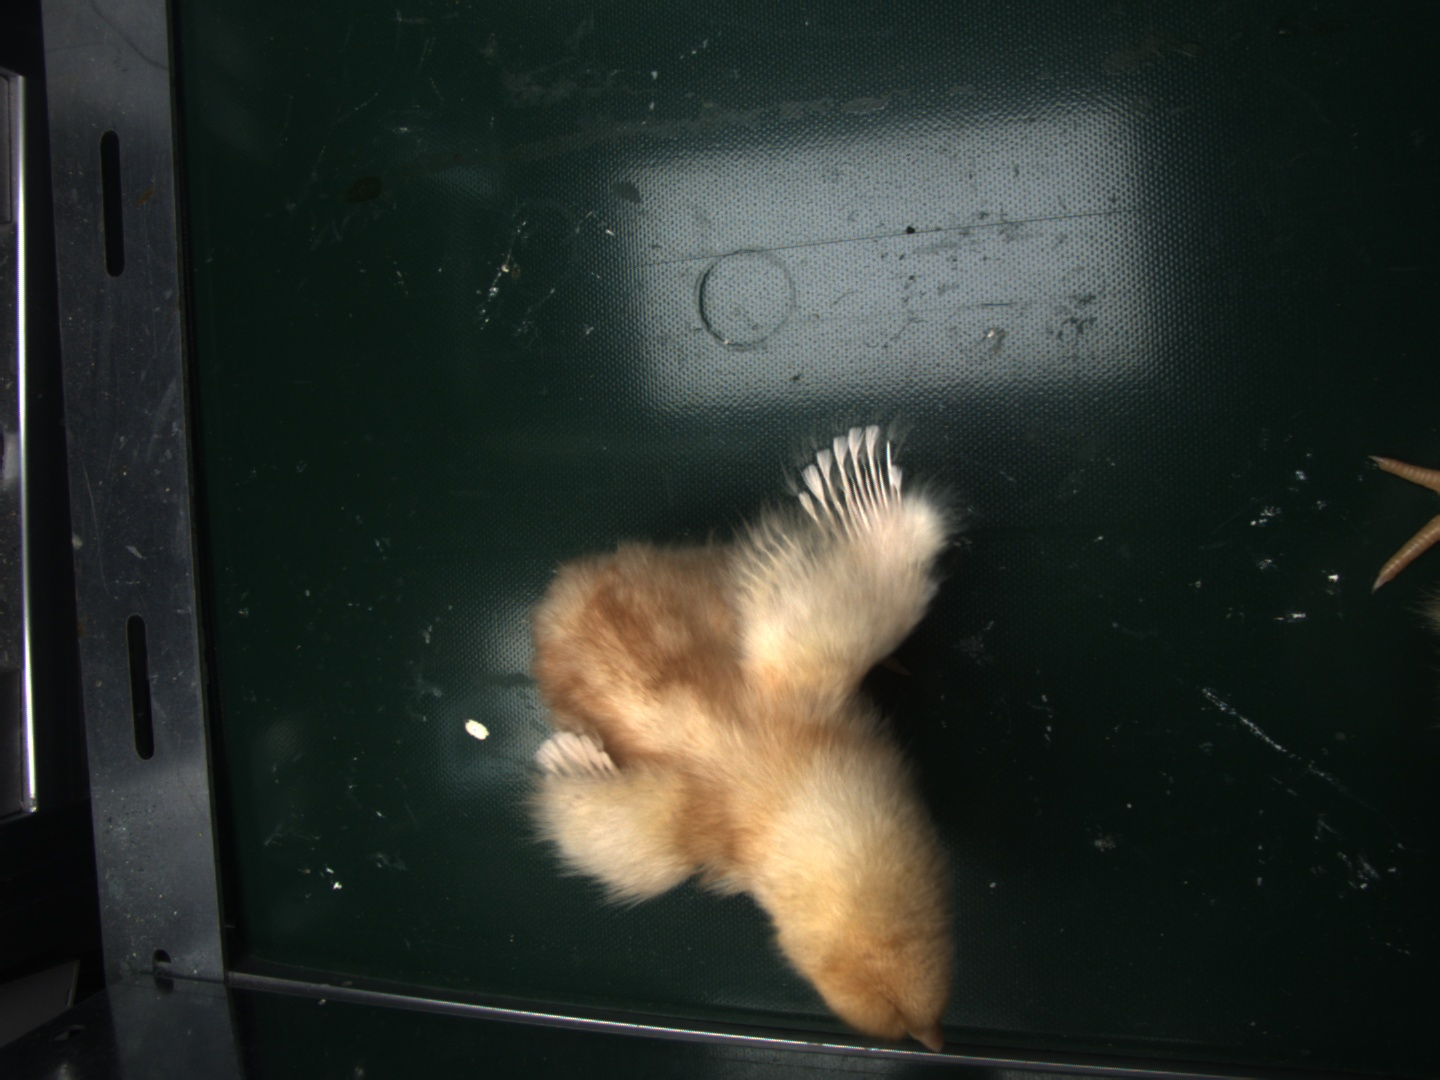female: (797, 428, 906, 530)
